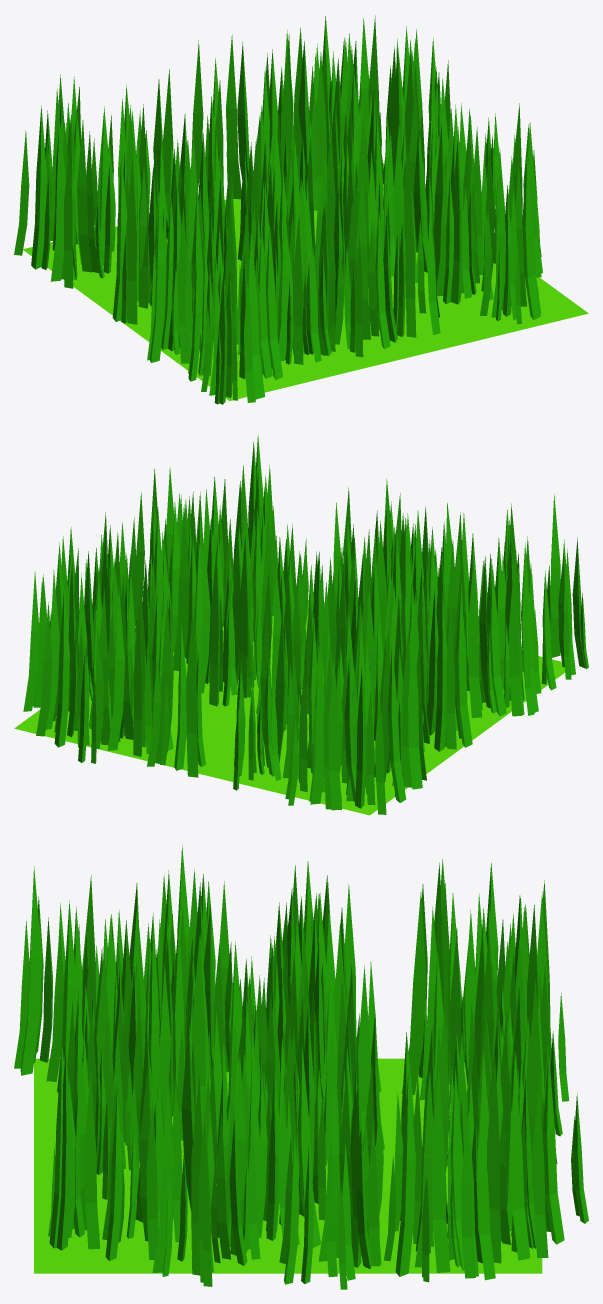
The model's file is grass_2.fbx.
3 views of the same model, one above another, from view 1: azimuth 30°, elevation 25°; view 2: azimuth 150°, elevation 25°; view 3: azimuth 270°, elevation 25° (orthographic). The views are drawn at different scales.
Parts seen in each view (by area): view 1: Plane, Plane|Cone|Dupli|535, Plane|Cone|Dupli|80, Plane|Cone|Dupli|155, Plane|Cone|Dupli|449, Plane|Cone|Dupli|466, Plane|Cone|Dupli|404, Plane|Cone|Dupli|240, Plane|Cone|Dupli|439, Plane|Cone|Dupli|389, Plane|Cone|Dupli|411, Plane|Cone|Dupli|281 (+84 smaller); view 2: Plane, Plane|Cone|Dupli|366, Plane|Cone|Dupli|99, Plane|Cone|Dupli|389, Plane|Cone|Dupli|264, Plane|Cone|Dupli|453, Plane|Cone|Dupli|155, Plane|Cone|Dupli|470, Plane|Cone|Dupli|399, Plane|Cone|Dupli|192, Plane|Cone|Dupli|530, Plane|Cone|Dupli|456 (+81 smaller); view 3: Plane, Plane|Cone|Dupli|534, Plane|Cone|Dupli|434, Plane|Cone|Dupli|411, Plane|Cone|Dupli|524, Plane|Cone|Dupli|386, Plane|Cone|Dupli|264, Plane|Cone|Dupli|124, Plane|Cone|Dupli|185, Plane|Cone|Dupli|485, Plane|Cone|Dupli|148, Plane|Cone|Dupli|65 (+118 smaller).
Part boxes in pixels (x1,y1,x2,y2): Plane: (23,163,588,400); Plane|Cone|Dupli|535: (522,153,540,319); Plane|Cone|Dupli|80: (149,191,166,362); Plane|Cone|Dupli|155: (31,105,46,269); Plane|Cone|Dupli|449: (126,157,137,324); Plane|Cone|Dupli|466: (226,35,241,199); Plane|Cone|Dupli|404: (450,140,462,304); Plane|Cone|Dupli|240: (266,223,283,379); Plane|Cone|Dupli|439: (77,120,92,272); Plane|Cone|Dupli|389: (50,118,65,281); Plane|Cone|Dupli|411: (248,228,264,399); Plane|Cone|Dupli|281: (293,213,303,364); Plane: (14,600,564,815); Plane|Cone|Dupli|366: (186,611,198,777); Plane|Cone|Dupli|99: (455,582,472,747); Plane|Cone|Dupli|389: (408,627,422,789); Plane|Cone|Dupli|264: (54,587,69,747); Plane|Cone|Dupli|453: (468,559,482,717); Plane|Cone|Dupli|155: (387,642,406,802); Plane|Cone|Dupli|470: (173,504,189,670); Plane|Cone|Dupli|399: (434,592,447,751); Plane|Cone|Dupli|192: (107,589,125,750); Plane|Cone|Dupli|530: (508,563,522,716); Plane|Cone|Dupli|456: (328,656,341,810); Plane: (34,1058,542,1273); Plane|Cone|Dupli|534: (431,1067,450,1272); Plane|Cone|Dupli|434: (395,1069,415,1276); Plane|Cone|Dupli|411: (20,866,41,1075); Plane|Cone|Dupli|524: (510,1059,530,1260); Plane|Cone|Dupli|386: (401,892,426,1094); Plane|Cone|Dupli|264: (542,1049,564,1244); Plane|Cone|Dupli|124: (487,1056,501,1263); Plane|Cone|Dupli|185: (56,1049,72,1250); Plane|Cone|Dupli|485: (84,1070,99,1249); Plane|Cone|Dupli|148: (192,935,206,1137); Plane|Cone|Dupli|65: (477,1105,495,1280).
Size of what is drawn, in the model's own units: 227 by 90.79 by 226.
